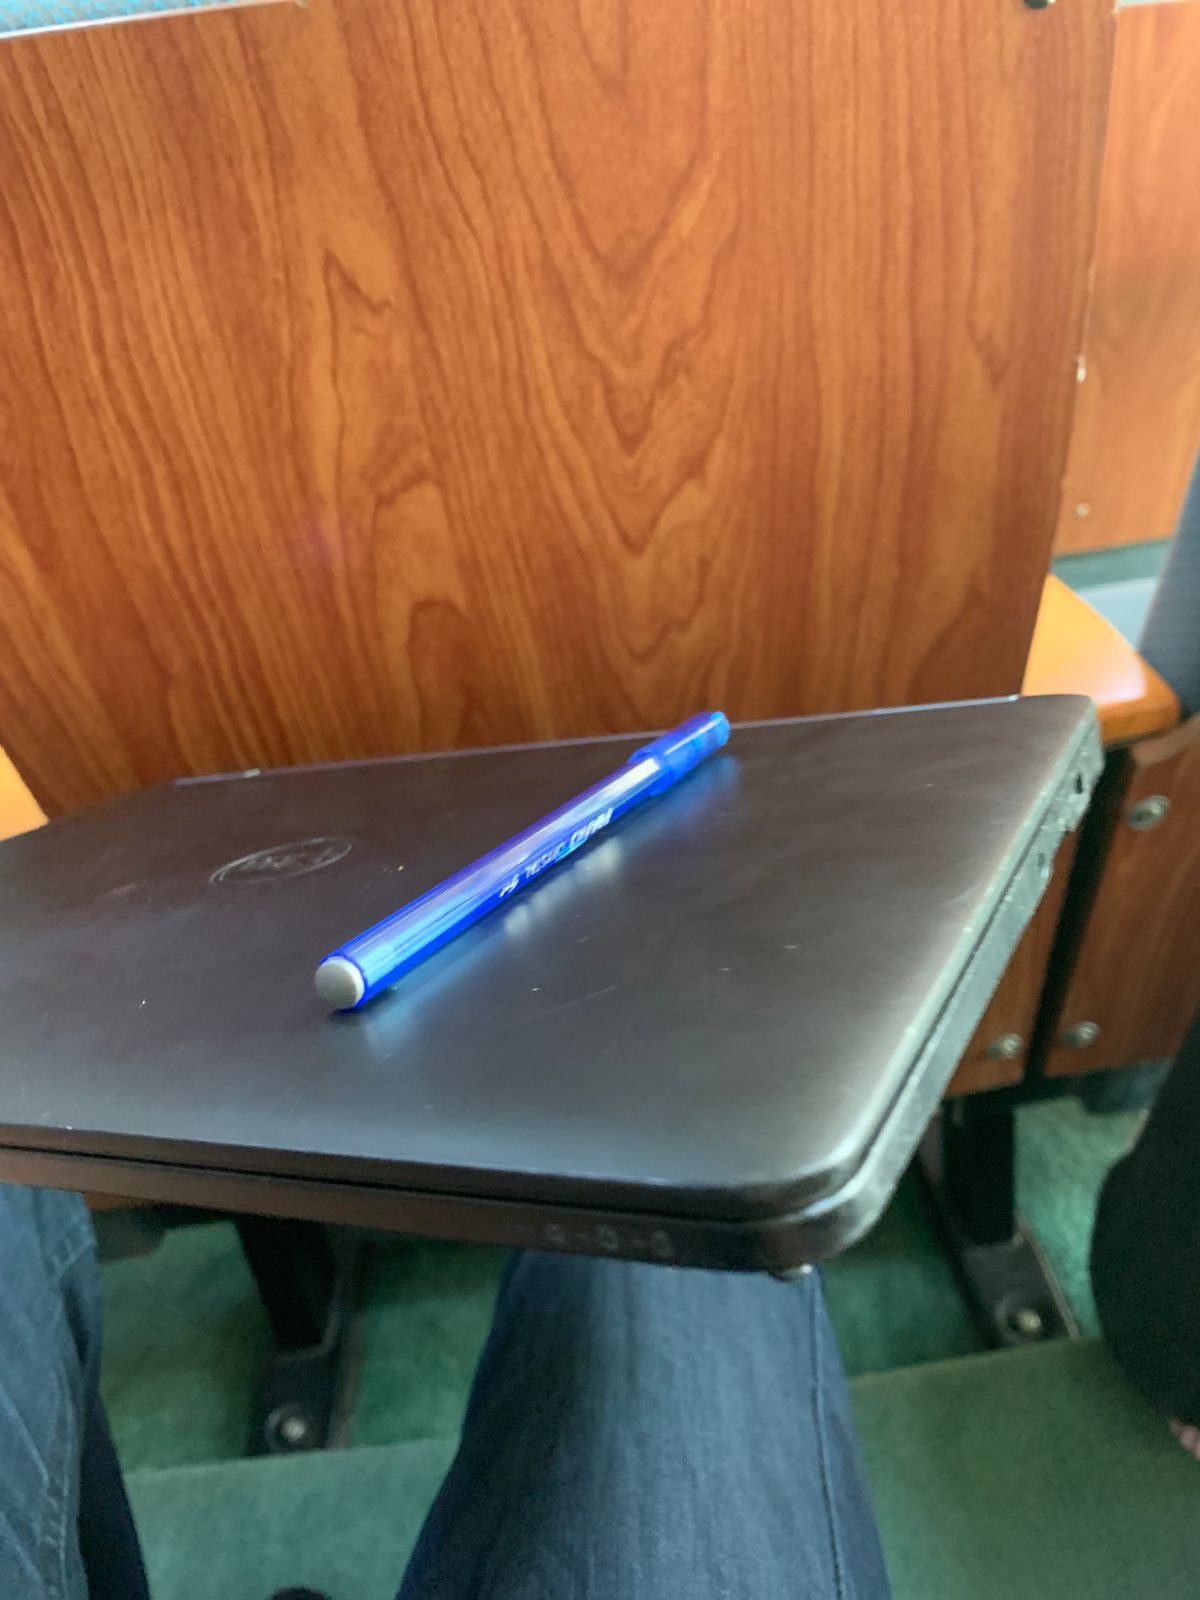pen: (244, 664, 811, 1071)
